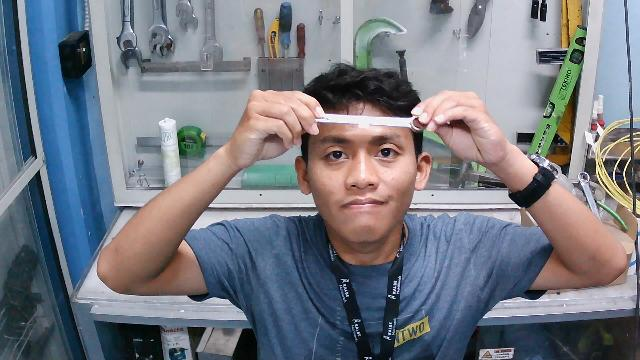kunci_pass_13: (298, 99, 432, 145)
